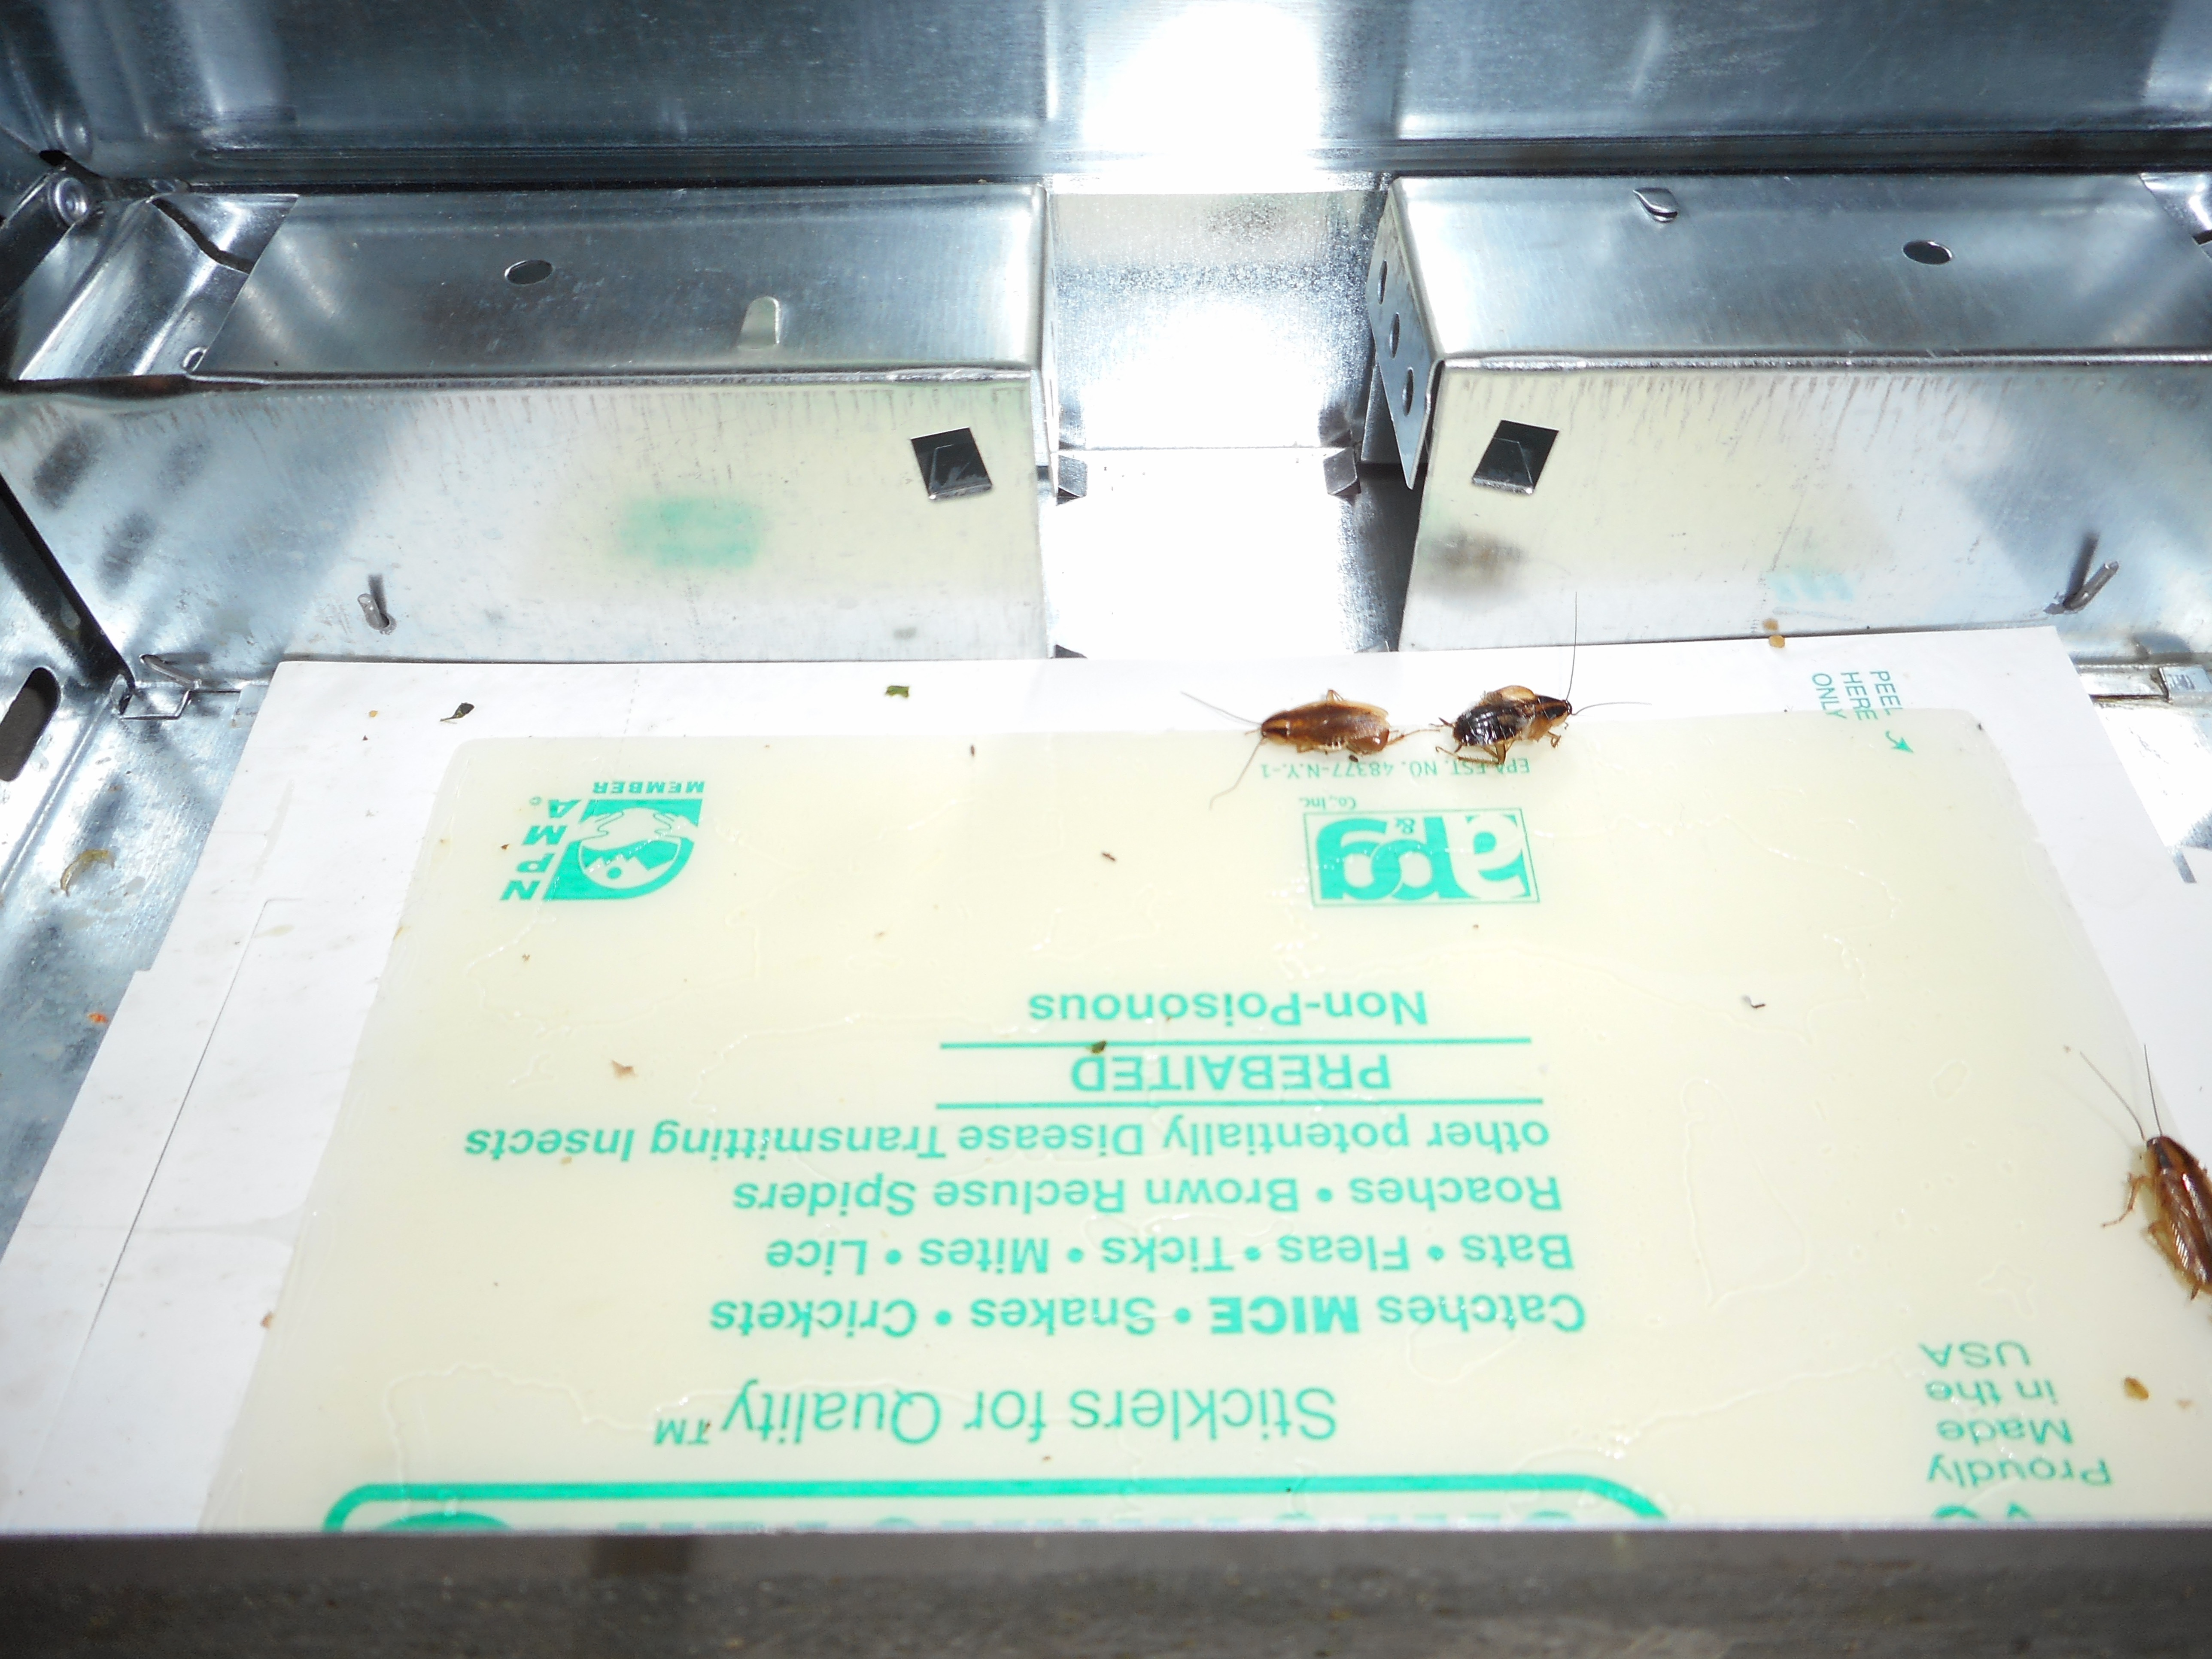cockroach: (1432, 676, 1576, 770), (1237, 685, 1397, 762)
